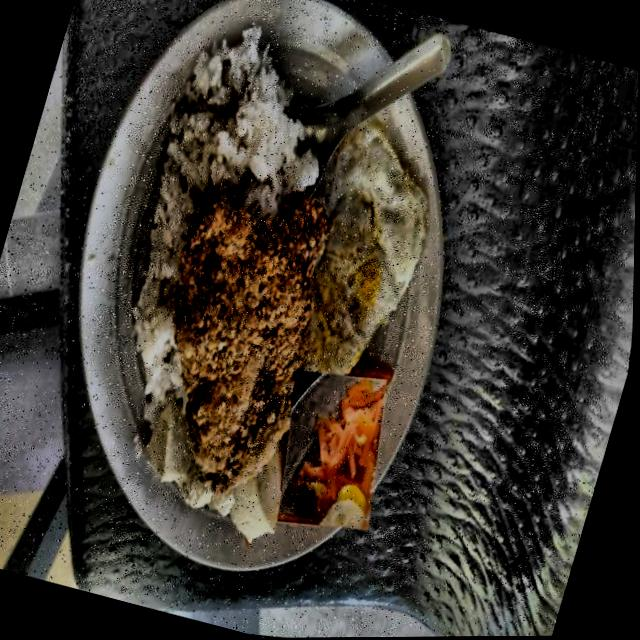Food: (104, 157, 372, 524), (259, 109, 480, 429), (146, 28, 325, 218), (256, 357, 413, 546)
